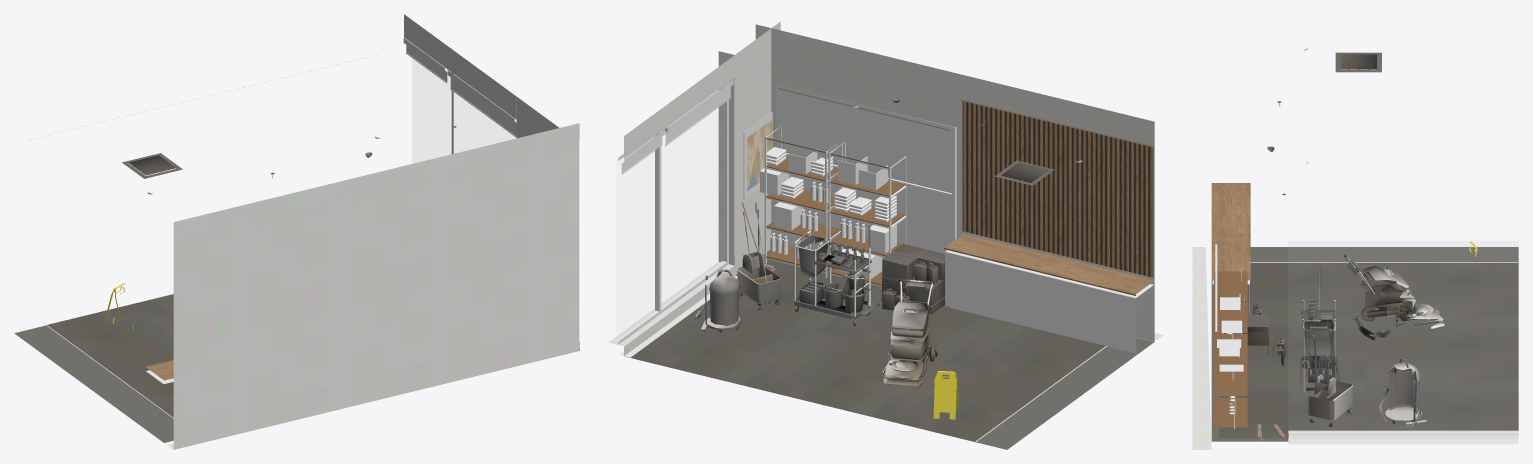
The model's file is z-equipment-lite.light.3aed3784.glb.
3 views of the same model, side by side, from view 1: azimuth 30°, elevation 25°; view 2: azimuth 150°, elevation 25°; view 3: azimuth 270°, elevation 25° (orthographic). The views are drawn at different scales.
Parts seen in each view (by area): view 1: equipment_plaster, equipment_bay_floor, equipment_carpet, equipment_satin, equipment_fx; view 2: equipment_satin, equipment_bay_floor, equipment_plaster, equipment_proxy_slat, equipment_fx, equipment_metal_lit, equipment_carpet, equipment_oak, equipment_steel_frame_shelves_01, equipment_art, equipment_WetFloorSign_01, equipment_emit; view 3: equipment_bay_floor, equipment_fx, equipment_carpet, equipment_plaster, equipment_steel_frame_shelves_01, equipment_oak, equipment_satin, equipment_metal_lit.
Boxes of the visible parts, x1,y1,x2,y2 form: equipment_plaster: (167,14,579,449); equipment_bay_floor: (47,294,173,417); equipment_carpet: (14,325,173,442); equipment_satin: (146,38,516,383); equipment_fx: (122,126,456,178); equipment_satin: (614,79,1153,357); equipment_bay_floor: (630,257,1105,441); equipment_plaster: (608,21,1163,355); equipment_proxy_slat: (962,101,1153,277); equipment_fx: (694,81,1054,385); equipment_metal_lit: (743,112,1106,441); equipment_carpet: (624,250,1154,449); equipment_oak: (944,234,1154,295); equipment_steel_frame_shelves_01: (766,138,904,285); equipment_art: (747,120,771,190); equipment_WetFloorSign_01: (933,370,958,419); equipment_emit: (778,88,1151,146); equipment_bay_floor: (1219,263,1518,437); equipment_fx: (1224,52,1444,428); equipment_carpet: (1211,247,1518,441); equipment_plaster: (1192,247,1518,449); equipment_steel_frame_shelves_01: (1214,271,1247,427); equipment_oak: (1211,183,1250,281); equipment_satin: (1212,47,1518,444); equipment_metal_lit: (1215,244,1518,391).
Size of the model in its own units: 6.25 by 3.35 by 4.25.
Materials: 14 (7 with a texture image).
